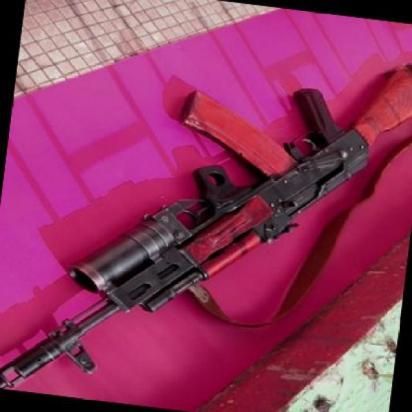Gun: (9, 22, 412, 412)
